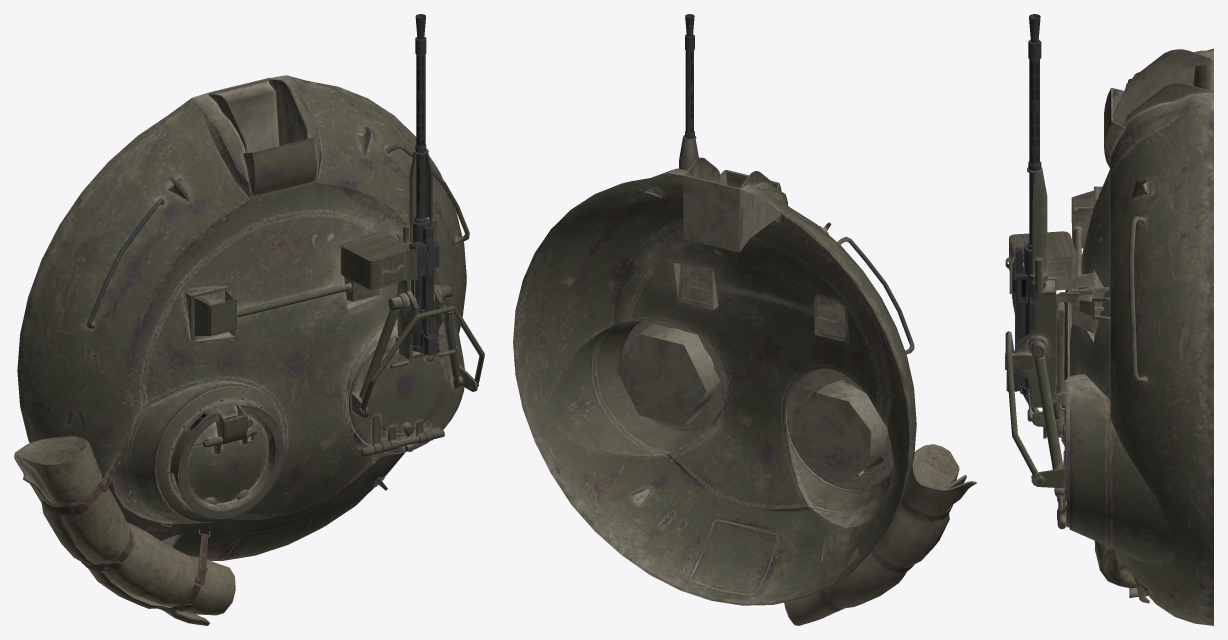
File: Turret_01.glb
3 renders of one model, left to right at view 1: azimuth 30°, elevation 25°; view 2: azimuth 150°, elevation 25°; view 3: azimuth 270°, elevation 25°, orthographic. The views are drawn at different scales.
Visible parts, largest first — view 1: set_0_group_0; view 2: set_0_group_0; view 3: set_0_group_0.
Part boxes in pixels (x1,y1,x2,y2): set_0_group_0: (14, 14, 484, 625); set_0_group_0: (513, 14, 976, 625); set_0_group_0: (1005, 14, 1213, 625).
Bounding box in the file's own units: 3 × 3.6 × 1.01.
1 material, 1 textured.
